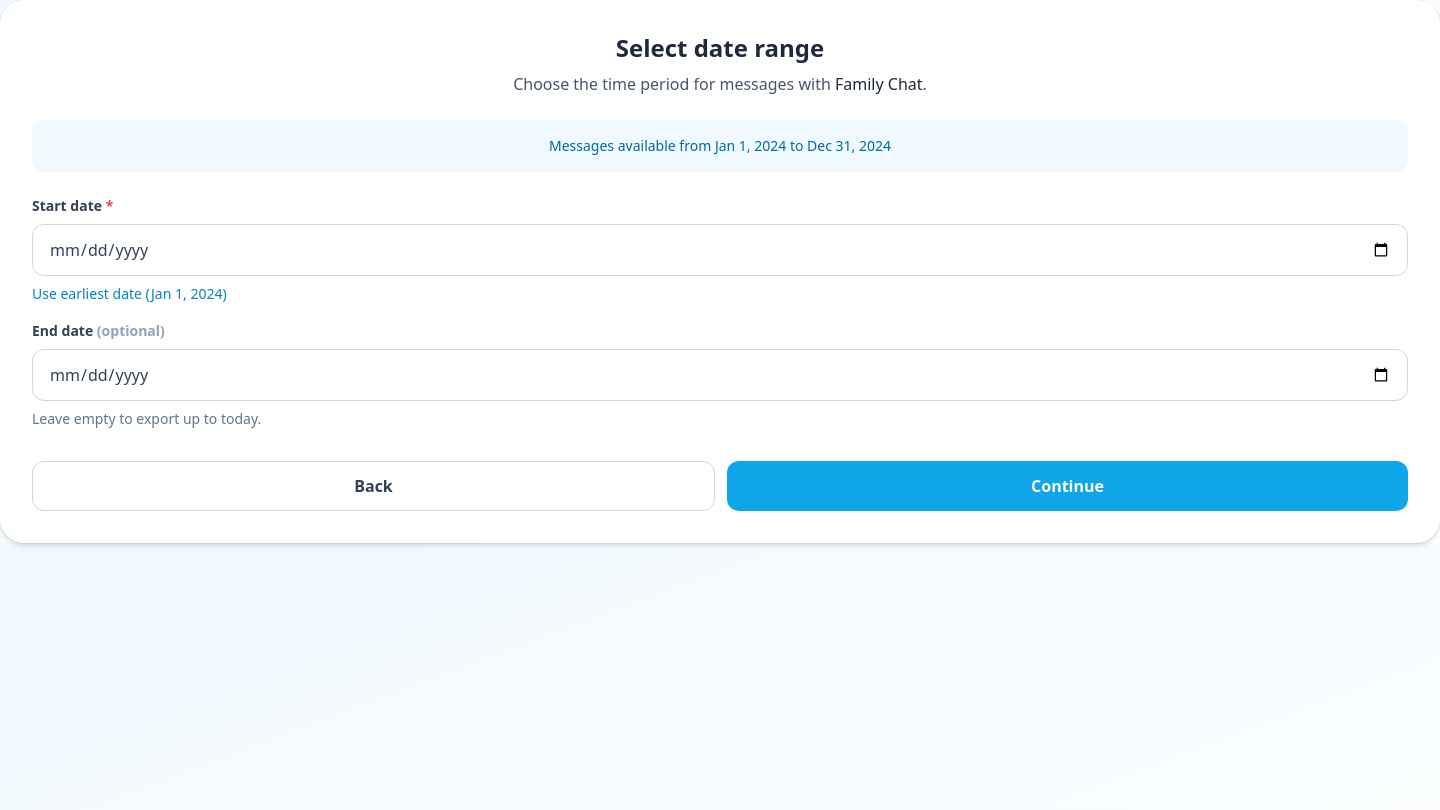
it: Step3DateRange › requires a start date before continuing
What coordinates should you click on to do the following:
click the button "Continue"
I would click on:
 (1068, 486)
Its box is [727,461,1408,511].
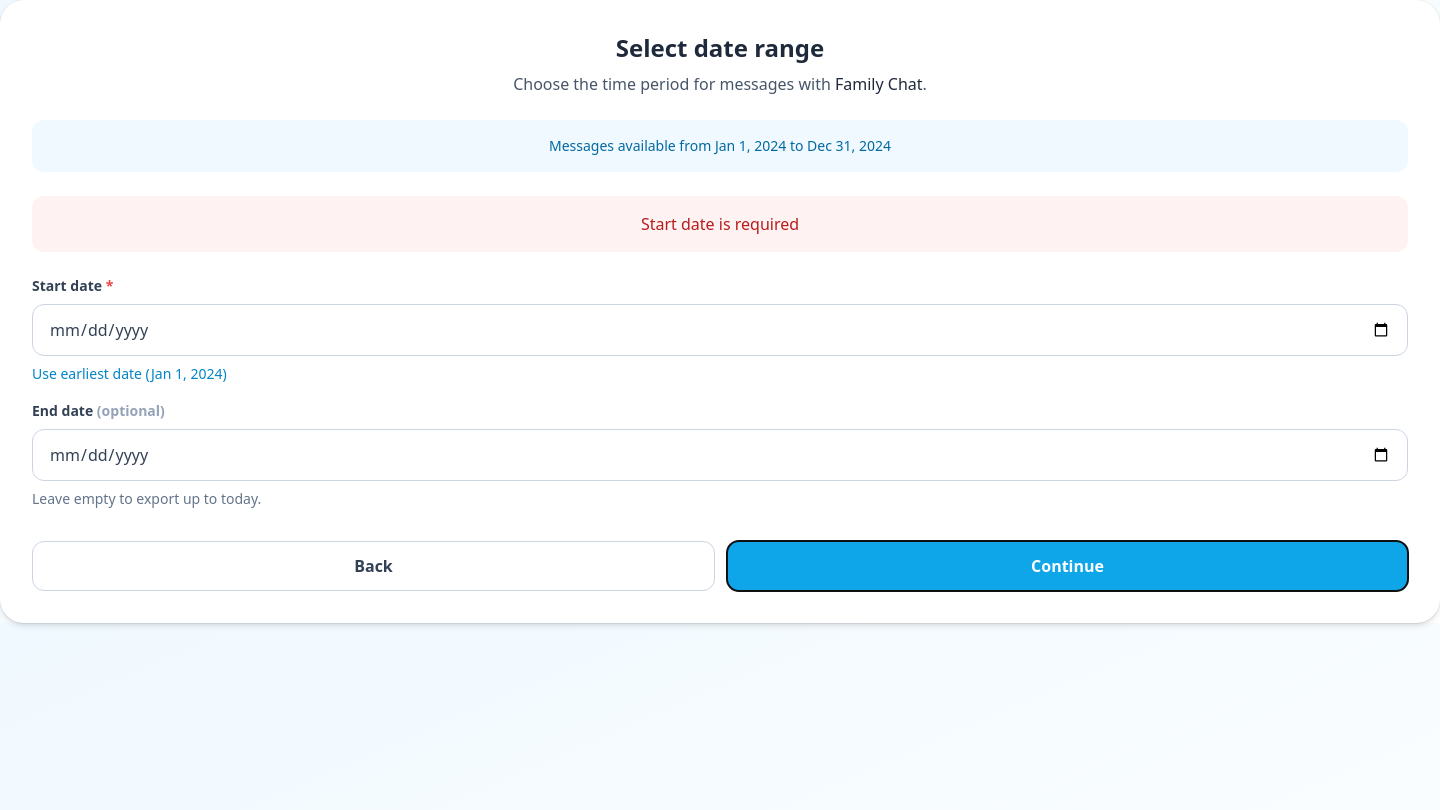
Check: the text "Start date is required" is shown, box [32,196,1408,252]
